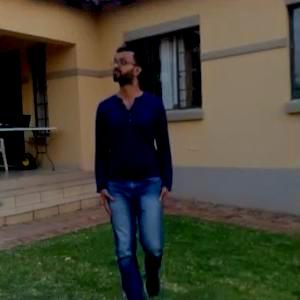follow: (95, 41, 169, 255)
